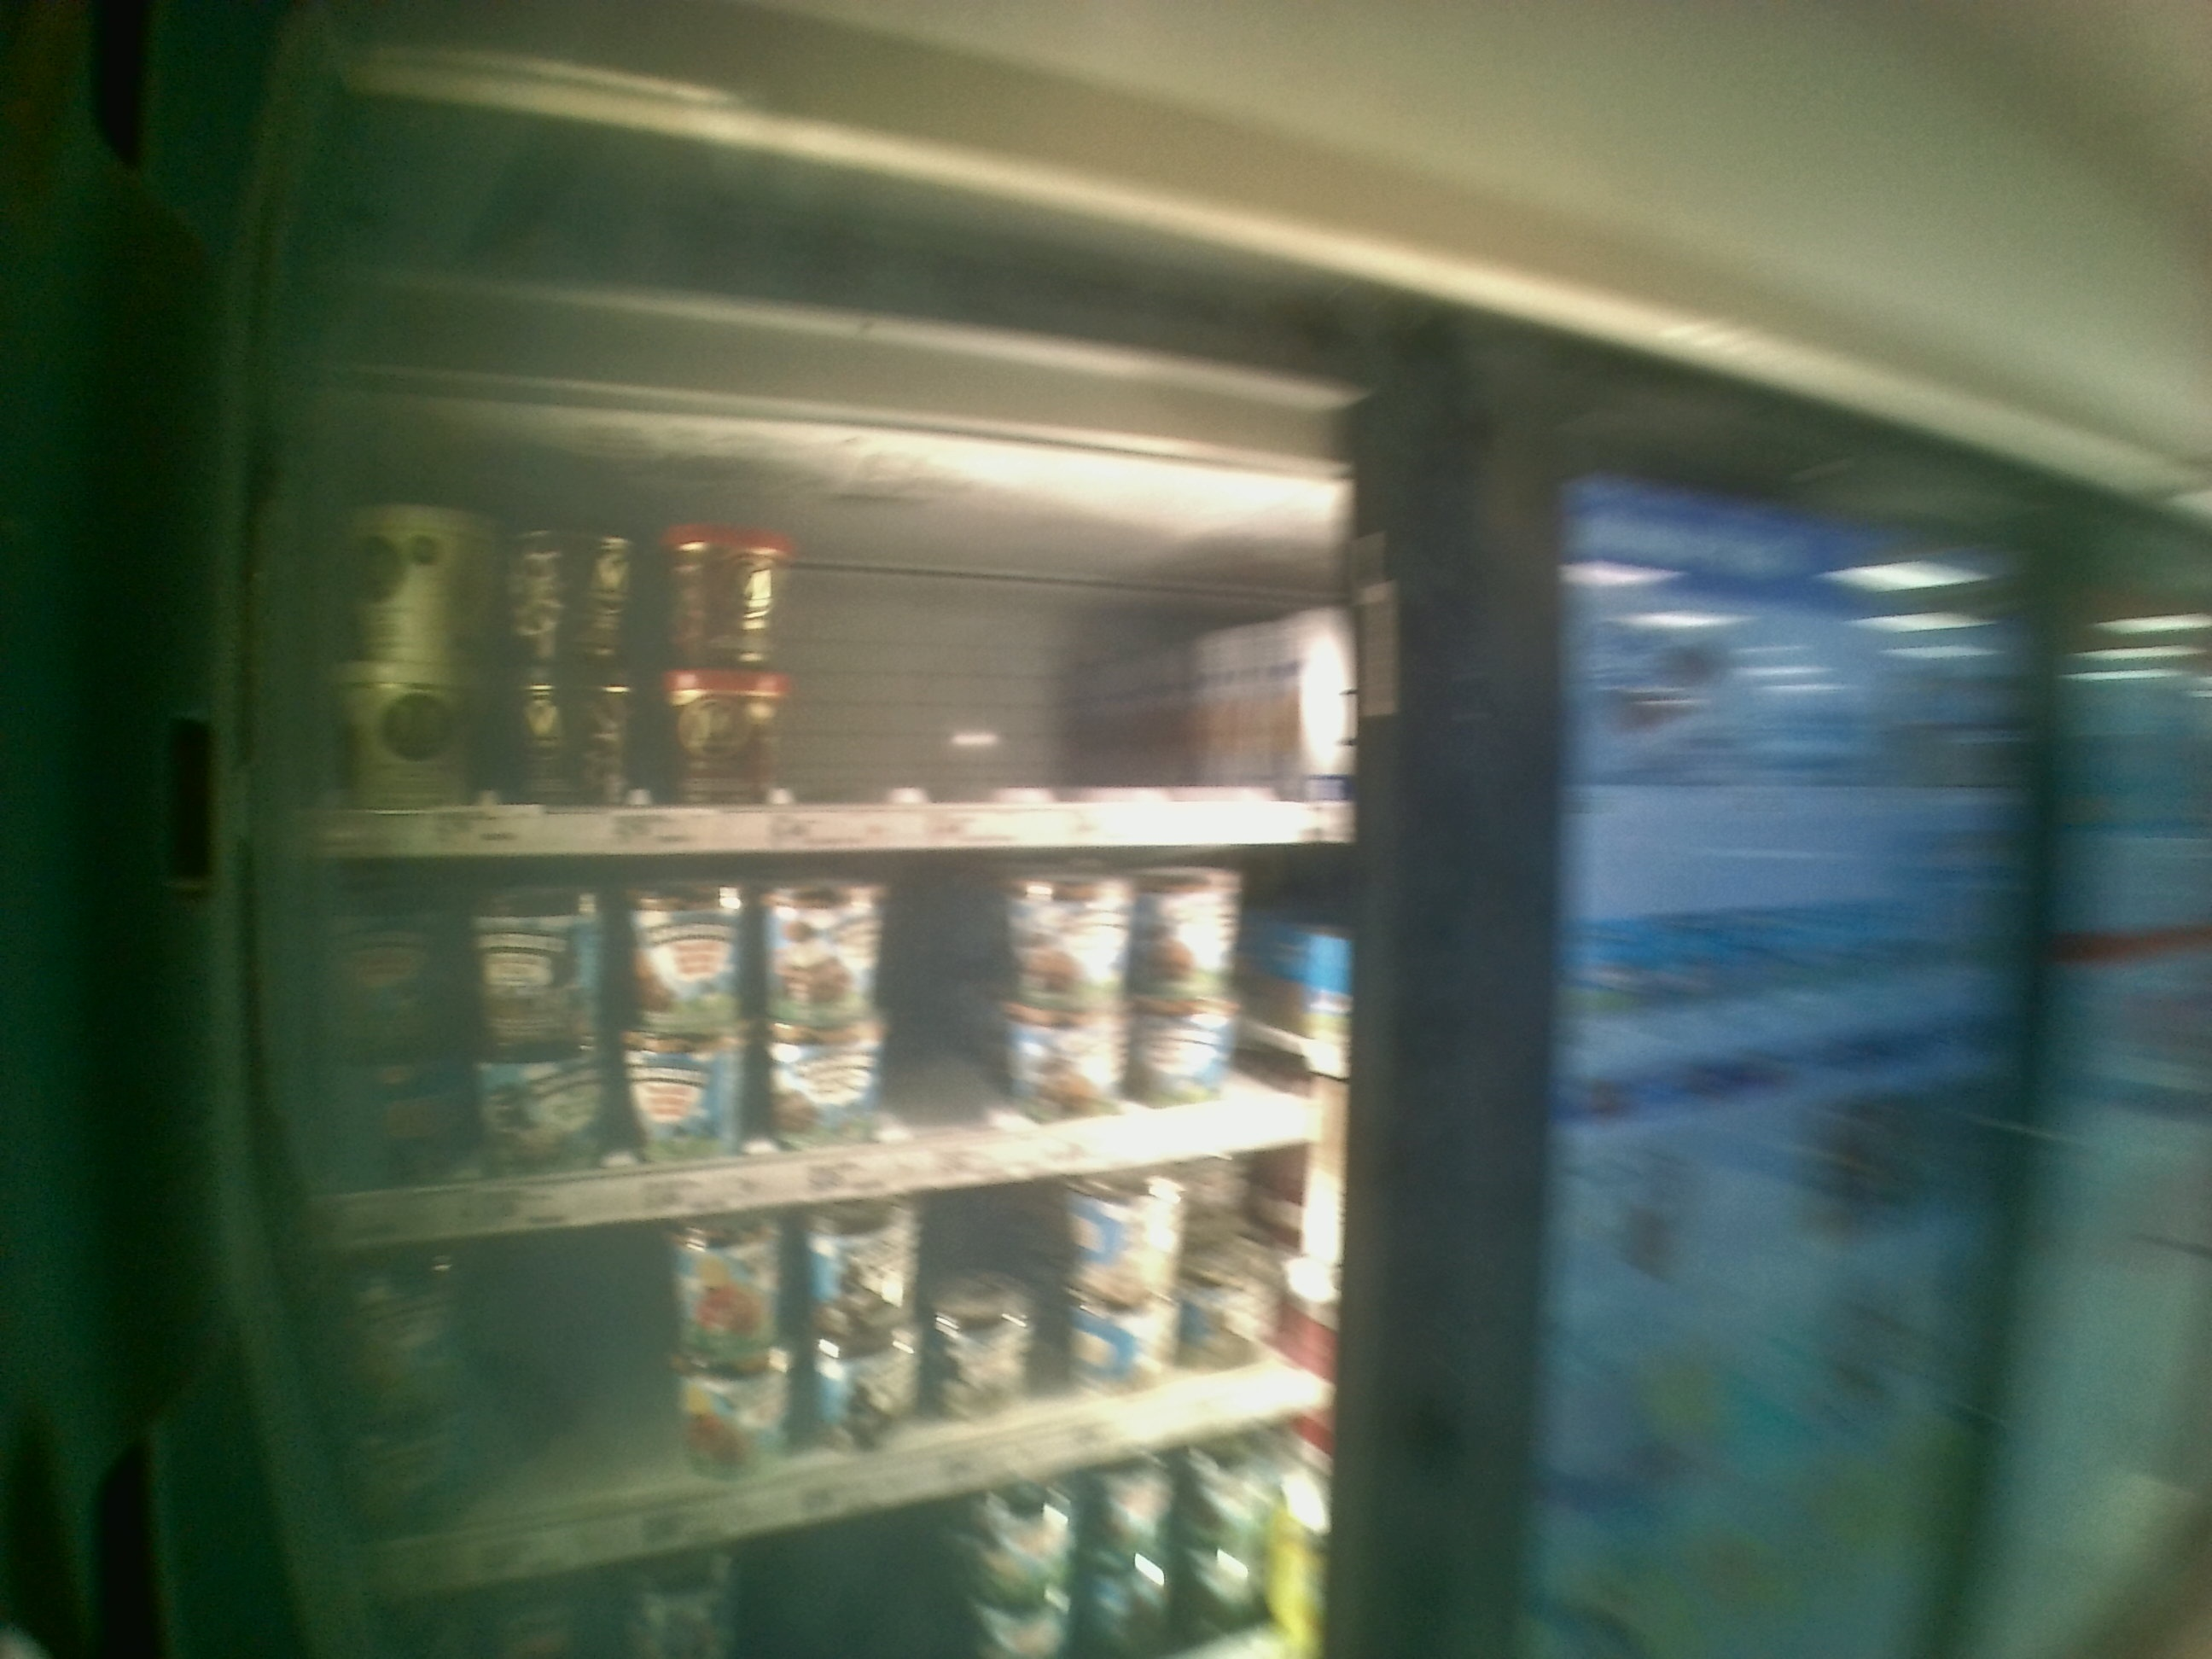shelf: (320, 390, 1350, 852), (315, 857, 1359, 1258)
